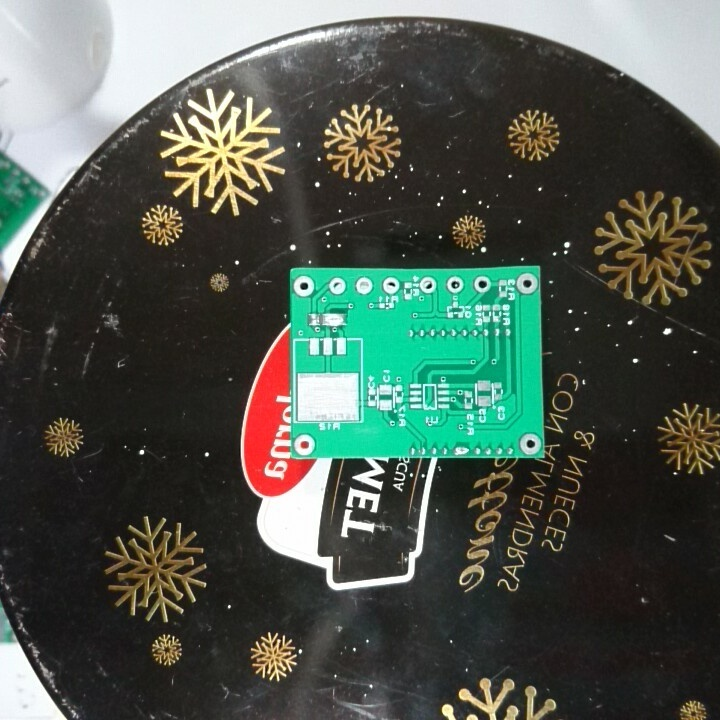F: (518, 431, 543, 457), (292, 274, 316, 301), (292, 432, 318, 456), (514, 272, 538, 296), (327, 275, 348, 298), (418, 275, 439, 297), (444, 275, 465, 297), (381, 276, 402, 297), (354, 276, 374, 297), (471, 275, 491, 294)
P: (319, 310, 349, 328), (451, 444, 472, 456)
